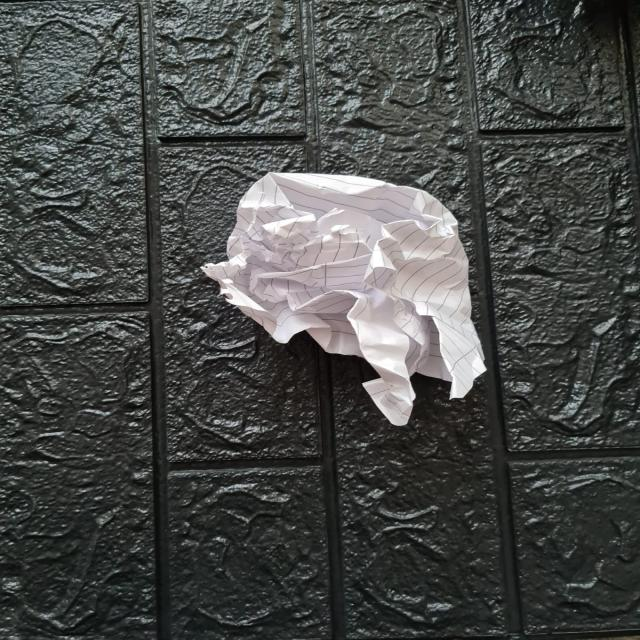Paper: (199, 171, 489, 425)
